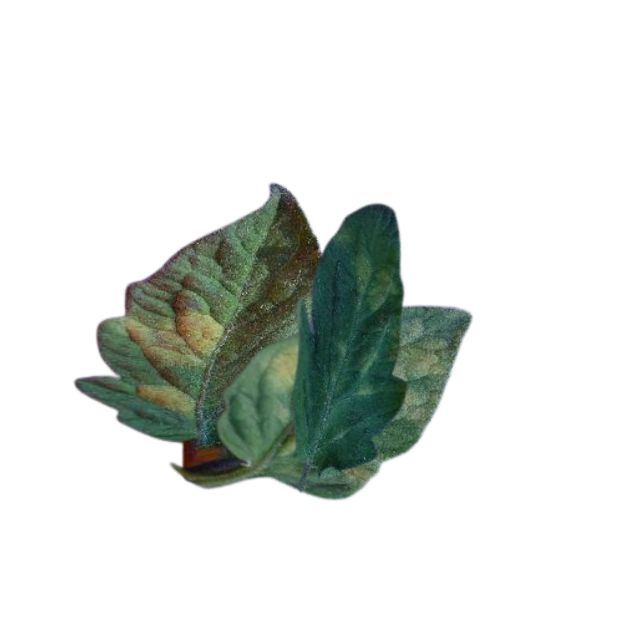Leaf_Mold: (392, 317, 464, 432), (122, 310, 224, 371), (347, 244, 397, 313), (133, 381, 196, 419), (259, 344, 303, 389), (338, 460, 374, 491)
